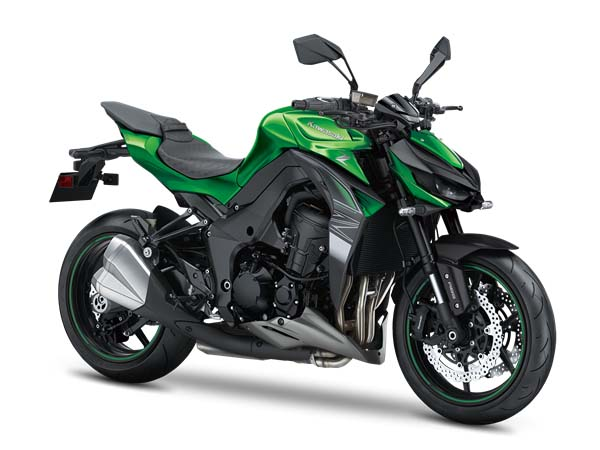motorcycle: (48, 32, 558, 423)
